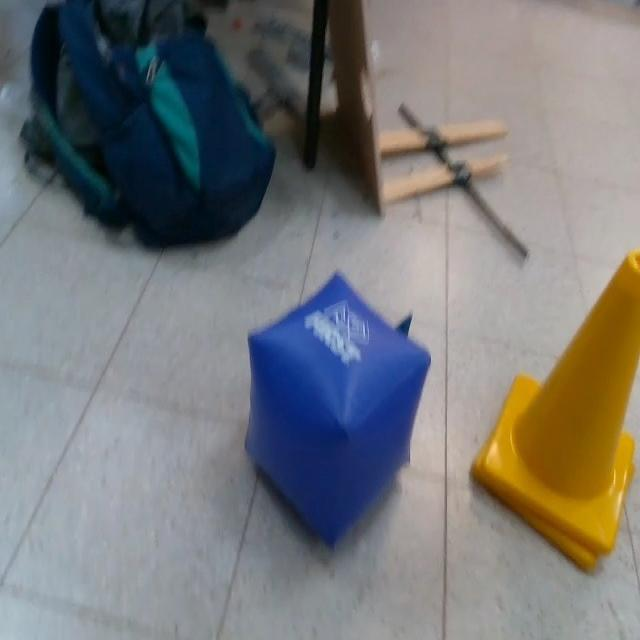cone: (470, 248, 640, 574)
cube: (245, 271, 431, 551)
